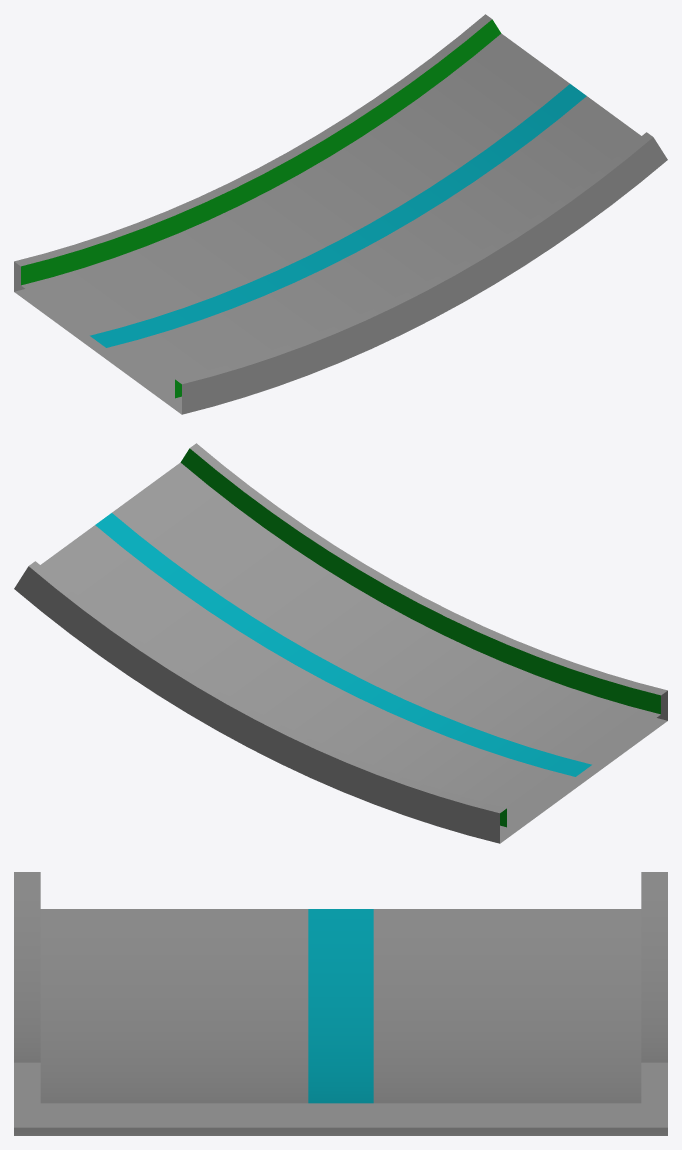
The model's file is mesh_road_ramp_curve_30.FBX.
3 renders of one model, top to bottom at view 1: azimuth 30°, elevation 25°; view 2: azimuth 150°, elevation 25°; view 3: azimuth 270°, elevation 25°, orthographic. The views are drawn at different scales.
Visible parts, largest first — view 1: Box001; view 2: Box001; view 3: Box001.
Boxes of the visible parts, left/top/right/bottom form: Box001: left=14, top=14, right=667, bottom=414; Box001: left=14, top=443, right=667, bottom=843; Box001: left=14, top=872, right=667, bottom=1135.
Bounding box in the file's own units: 66.85 × 21.38 × 40.
